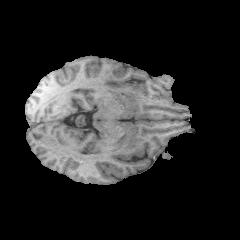glioma: (104, 58, 150, 102)
